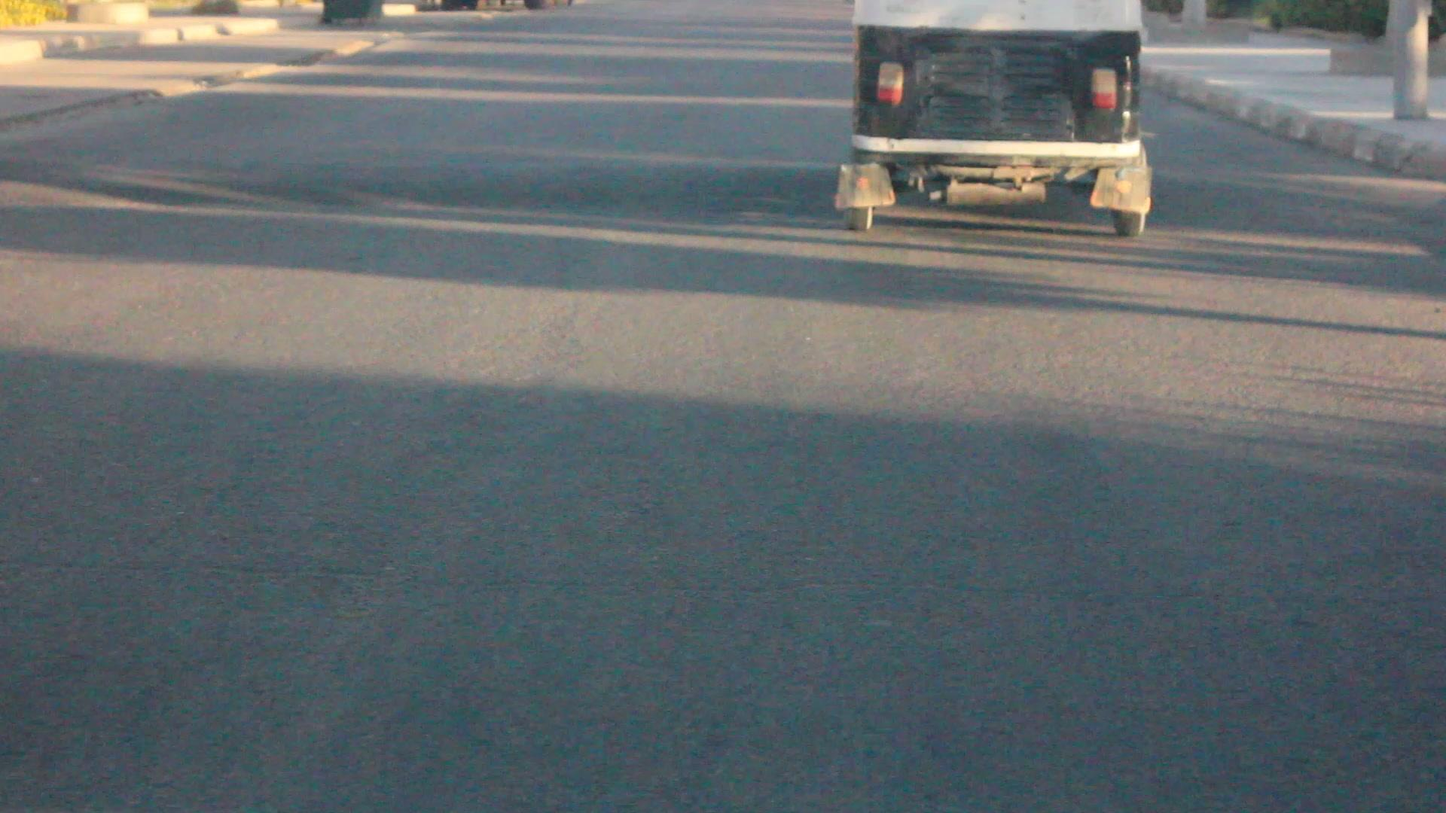Bump: (32, 151, 836, 228), (1147, 167, 1446, 237)
